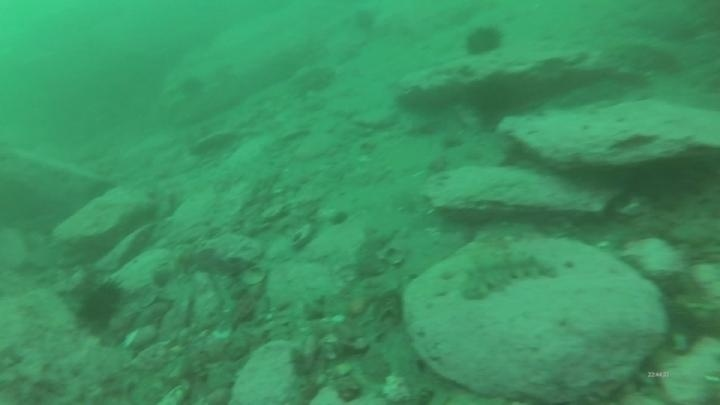echinus: (75, 278, 126, 331), (468, 76, 520, 125), (461, 23, 506, 60)
holothurian: (457, 251, 559, 303)
